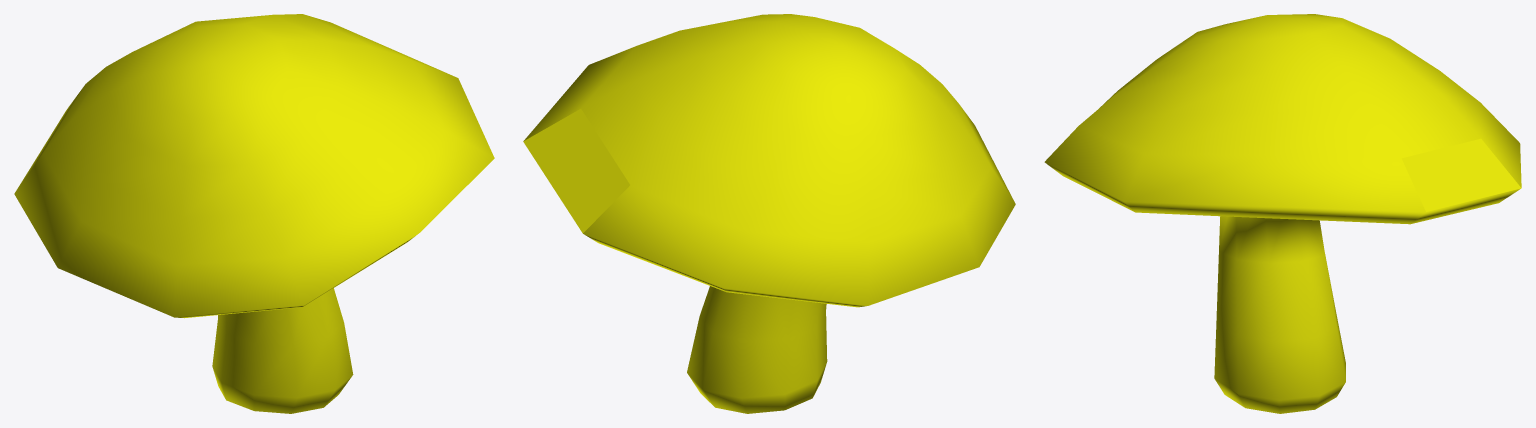
The model's file is MushroomRed.glb.
3 renders of one model, left to right at view 1: azimuth 30°, elevation 25°; view 2: azimuth 150°, elevation 25°; view 3: azimuth 270°, elevation 25°, orthographic. The views are drawn at different scales.
Visible parts, largest first — view 1: polySurface199; view 2: polySurface199; view 3: polySurface199.
Part boxes in pixels (x1,y1,x2,y2): polySurface199: (14,14,494,413); polySurface199: (523,14,1015,413); polySurface199: (1044,14,1521,413).
Size of the model in its own units: 0.8198 by 0.7329 by 0.894.
Materials: 1 (1 with a texture image).
